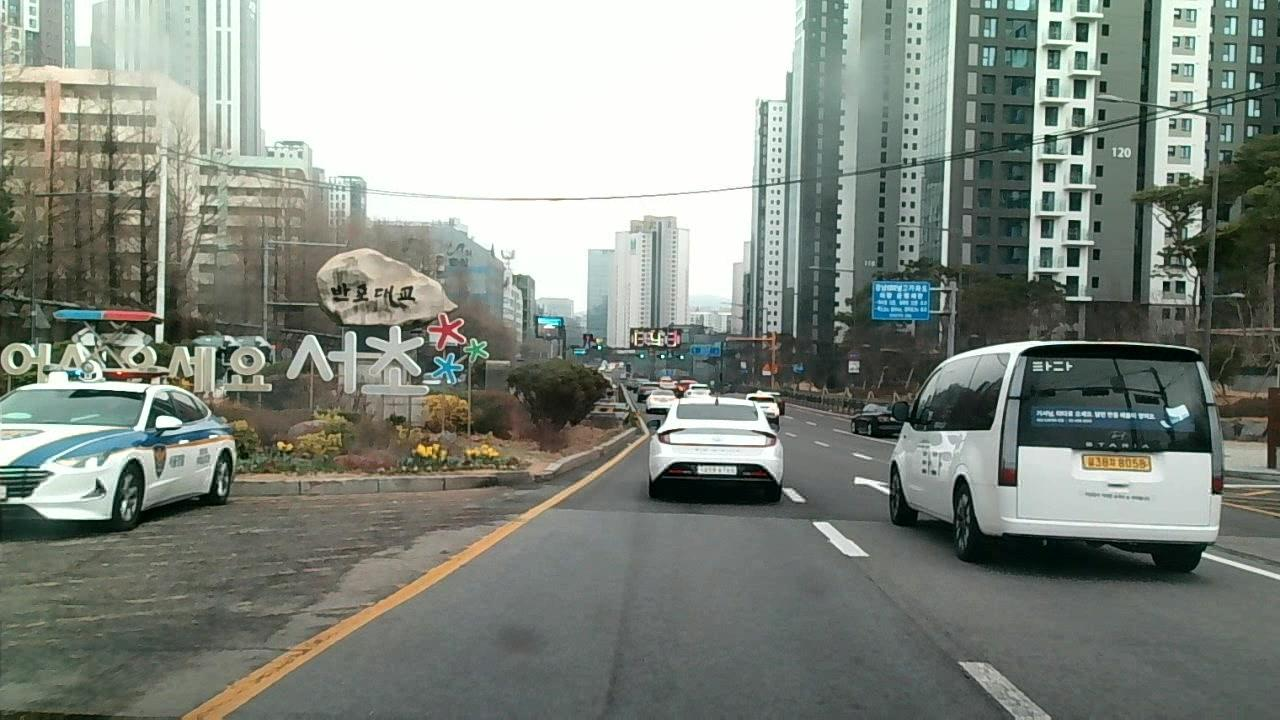erosion: (99, 490, 498, 636)
